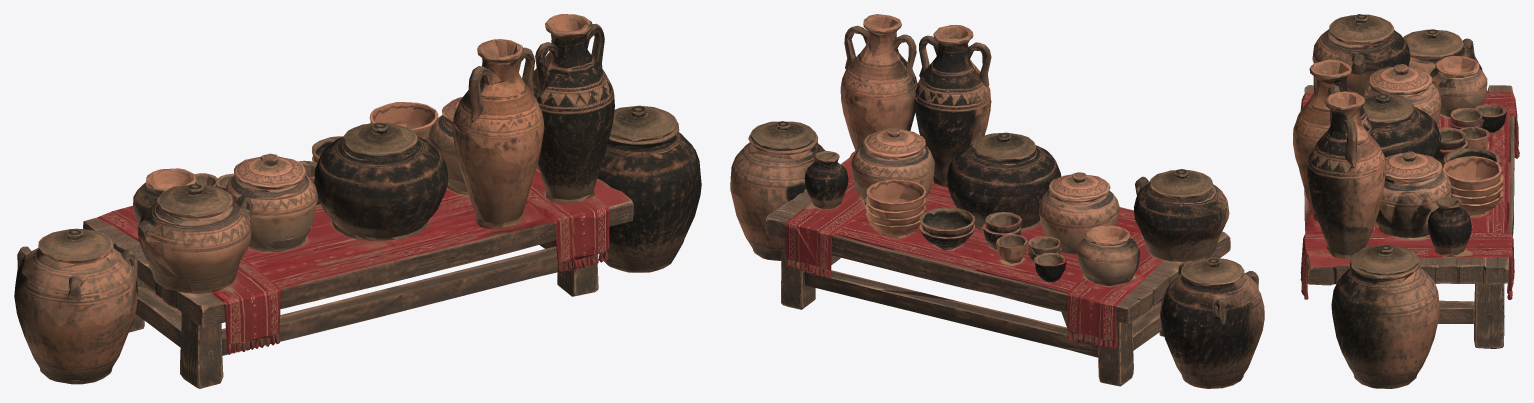
File: pottery_stand.glb
3 views of the same model, side by side, from view 1: azimuth 30°, elevation 25°; view 2: azimuth 150°, elevation 25°; view 3: azimuth 270°, elevation 25° (orthographic). The views are drawn at different scales.
Parts seen in each view (by area): view 1: Mesh_0; view 2: Mesh_0; view 3: Mesh_0.
Boxes of the visible parts, bbox=[...] form: Mesh_0: bbox=[14, 14, 701, 388]; Mesh_0: bbox=[730, 14, 1264, 388]; Mesh_0: bbox=[1293, 14, 1519, 388].
Size of the model in its own units: 2.4 by 0.9868 by 0.8492.
1 material, 1 textured.
